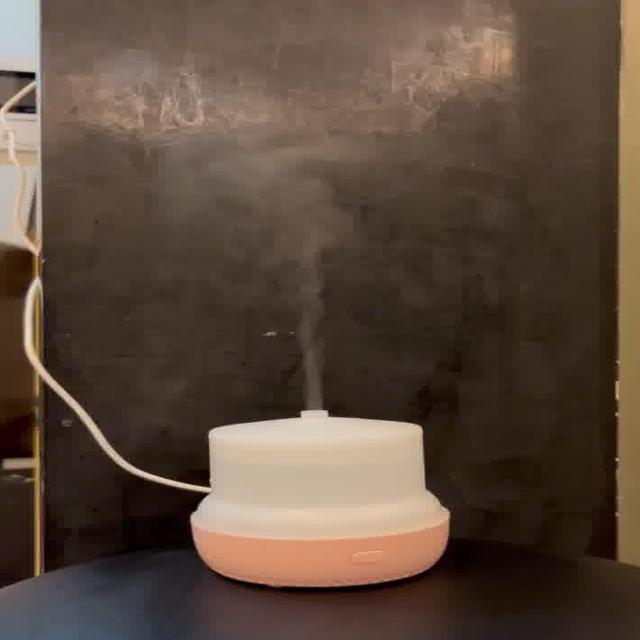fire: (166, 90, 343, 402)
